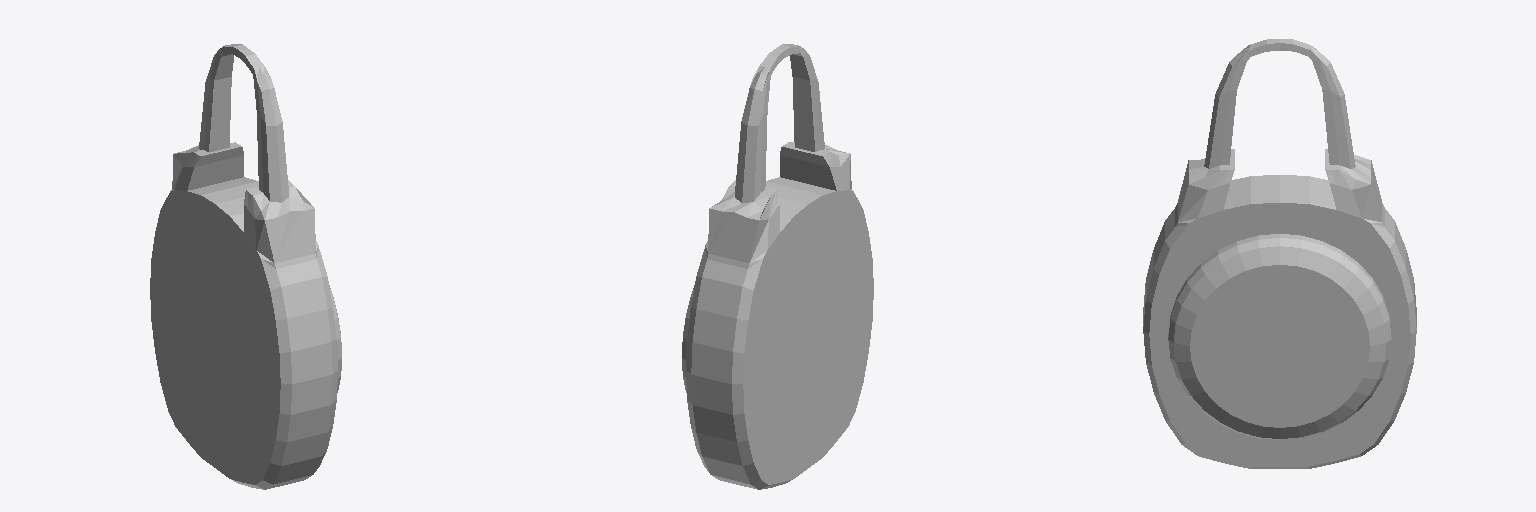
The model's file is DirectionalLockV2.obj.
3 views of the same model, side by side, from view 1: azimuth 30°, elevation 25°; view 2: azimuth 150°, elevation 25°; view 3: azimuth 270°, elevation 25° (orthographic).
Visible parts, largest first — view 1: Cylinder.001; view 2: Cylinder.001; view 3: Cylinder.001.
Part boxes in pixels (x1,y1,x2,y2): Cylinder.001: (150, 44, 341, 489); Cylinder.001: (682, 44, 873, 489); Cylinder.001: (1143, 39, 1416, 468).
Size of the model in its own units: 0.8395 by 4.13 by 2.45.